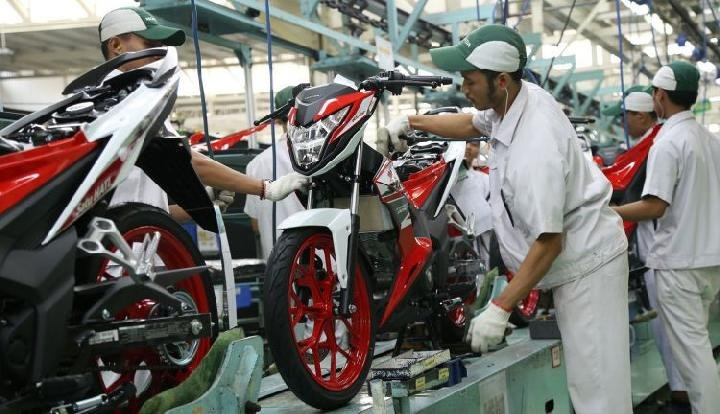motor: (250, 85, 507, 377)
